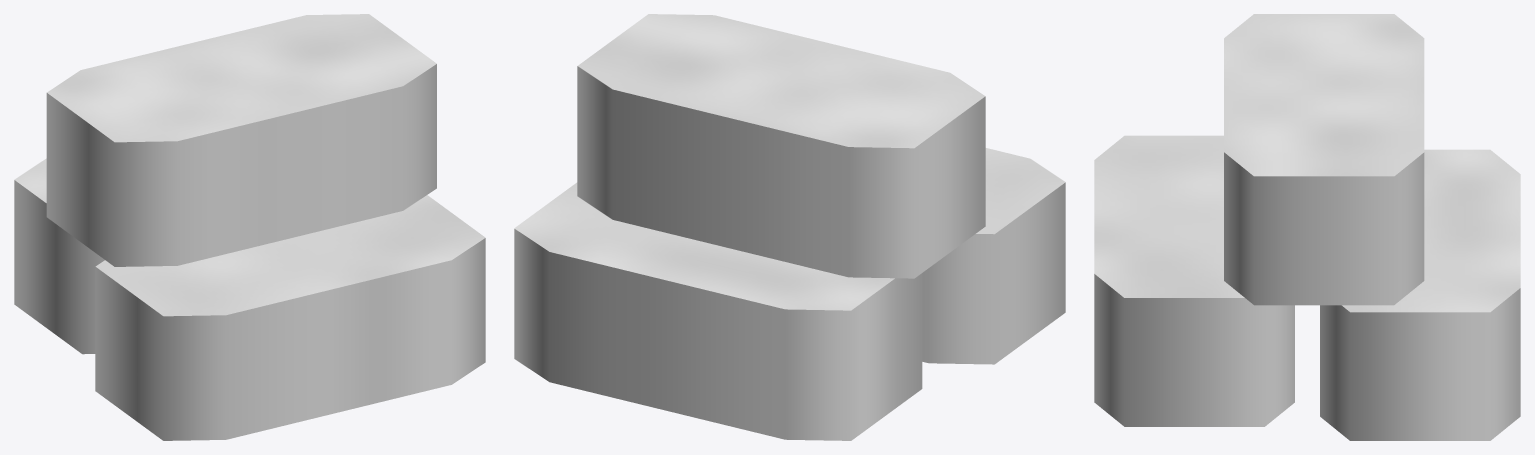
File: item_rm_granite_blocks_c.obj
The picture shows the model from 3 angles, left to right: view 1: azimuth 30°, elevation 25°; view 2: azimuth 150°, elevation 25°; view 3: azimuth 270°, elevation 25°; orthographic projection. The views are drawn at different scales.
Visible parts, largest first — view 1: block_3, block_1, block_2; view 2: block_3, block_2, block_1; view 3: block_3, block_1, block_2.
Boxes of the visible parts, x1=… form: block_3: x1=46, y1=14, x2=436, y2=266; block_1: x1=95, y1=195, x2=485, y2=440; block_2: x1=14, y1=158, x2=104, y2=354; block_3: x1=577, y1=14, x2=985, y2=278; block_2: x1=514, y1=182, x2=922, y2=440; block_1: x1=922, y1=148, x2=1065, y2=364; block_3: x1=1224, y1=14, x2=1424, y2=305; block_1: x1=1094, y1=135, x2=1294, y2=426; block_2: x1=1320, y1=149, x2=1520, y2=440.
Size of the model in its own units: 0.55 by 0.374 by 0.561.
